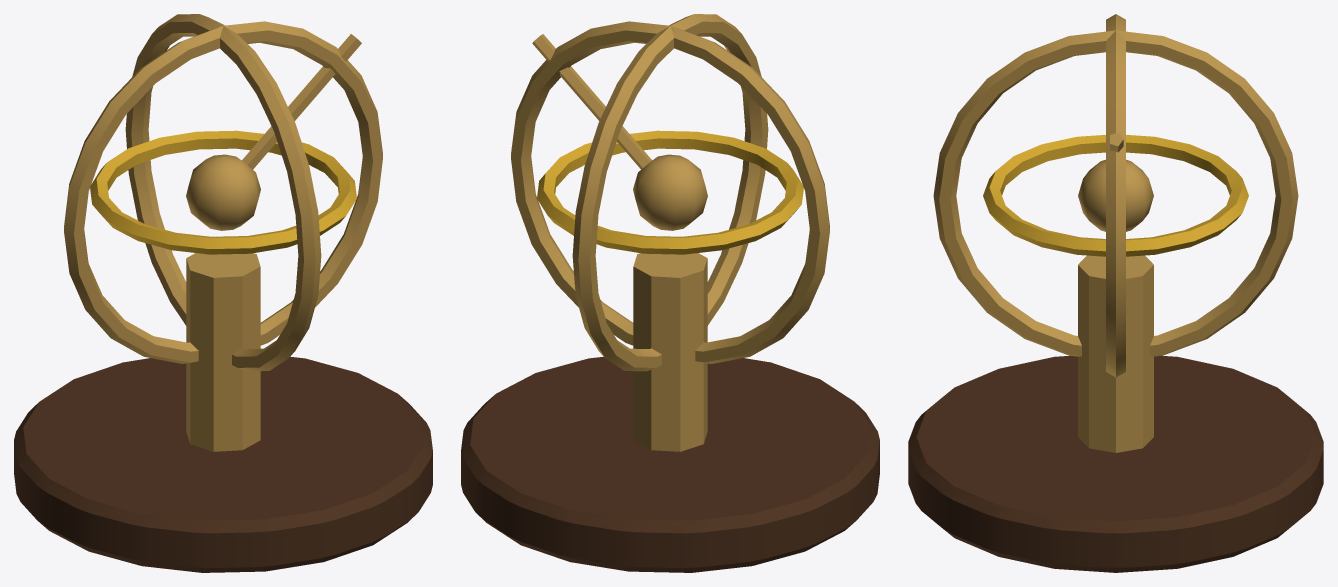
File: instrument_astrolabe.glb
The picture shows the model from 3 angles, left to right: view 1: azimuth 30°, elevation 25°; view 2: azimuth 150°, elevation 25°; view 3: azimuth 270°, elevation 25°; orthographic projection.
Parts seen in each view (by area): view 1: instrument_astrolabe; view 2: instrument_astrolabe; view 3: instrument_astrolabe.
Boxes of the visible parts, left/top/right/bottom form: instrument_astrolabe: left=14, top=14, right=432, bottom=572; instrument_astrolabe: left=461, top=14, right=879, bottom=572; instrument_astrolabe: left=908, top=14, right=1323, bottom=572.
Size of the model in its own units: 0.2184 by 0.266 by 0.2184.
